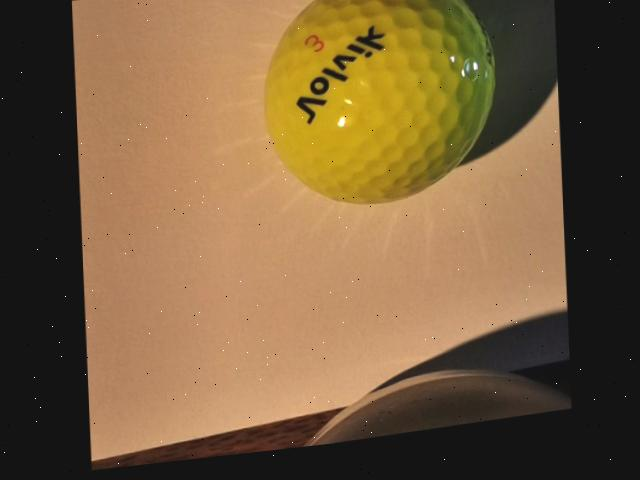Ball: (259, 1, 501, 226)
Volvik: (293, 32, 389, 133)
